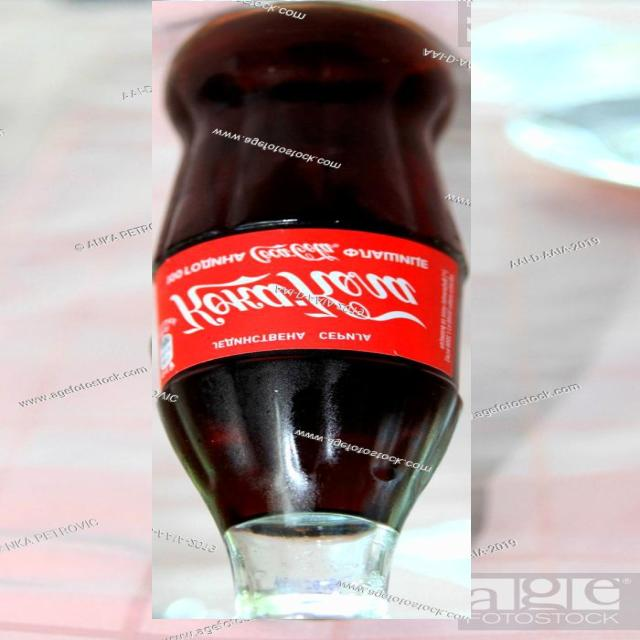coca-cola: (152, 1, 471, 619)
